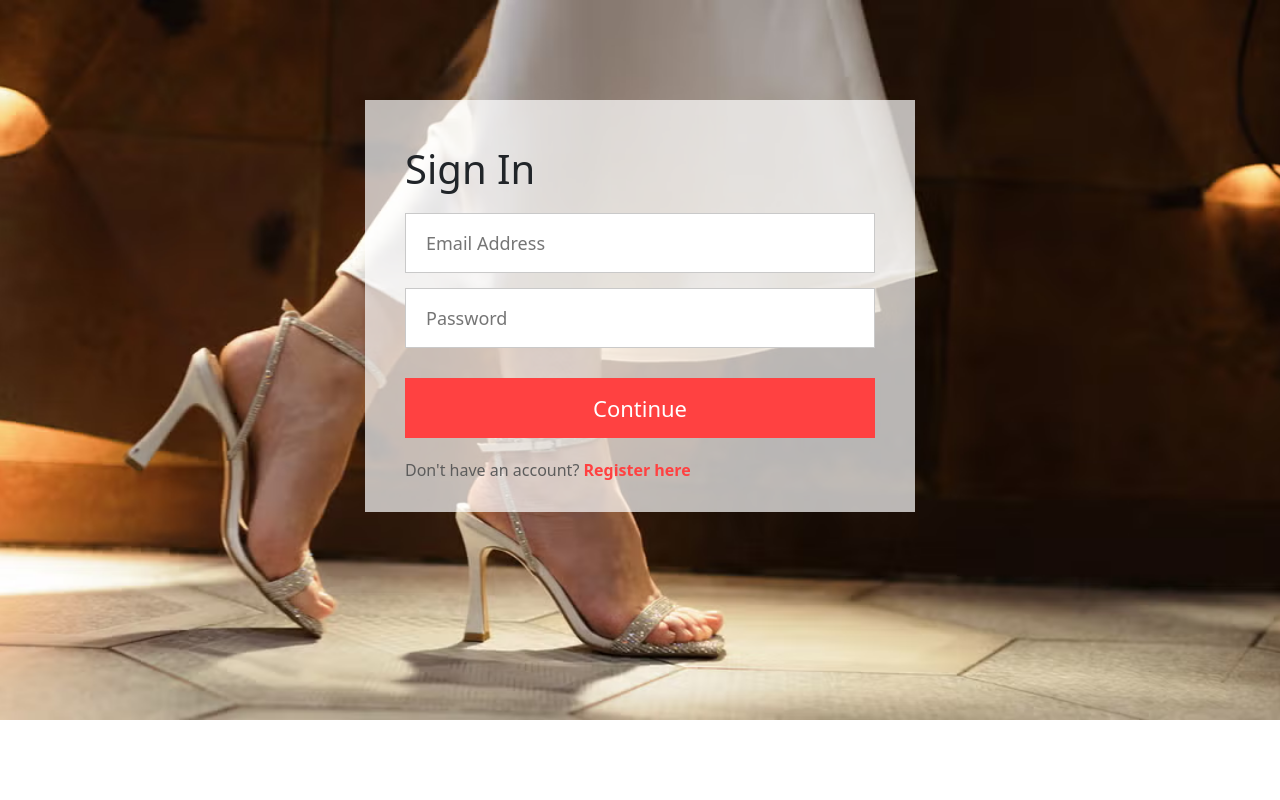
Test case: Login Component › displays validation errors when fields are empty on submit
This screenshot has width=1280, height=800.
Click the button "Continue" at (640,408), box [405,378,875,438]
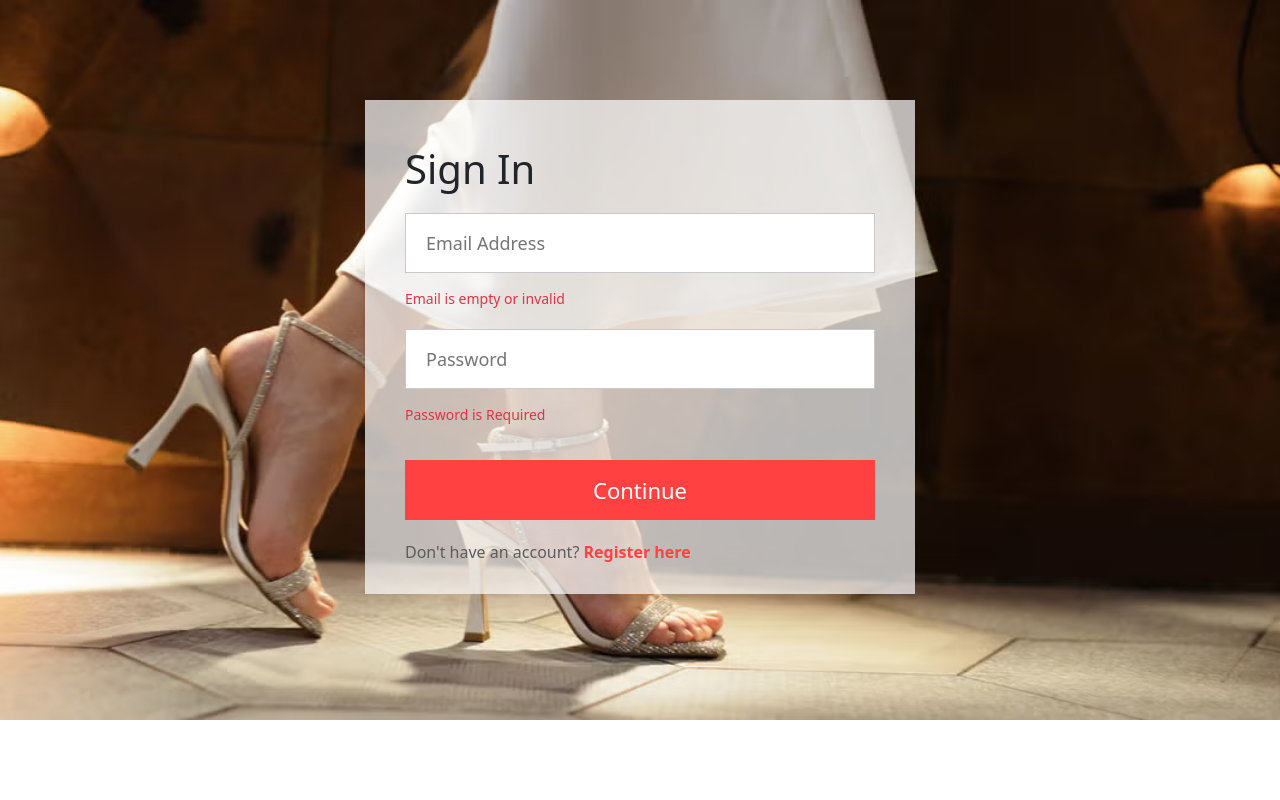
Now the text "Email is empty or invalid" is shown, box [405,289,565,308]
Now the text "Password is Required" is shown, box [405,405,545,424]
